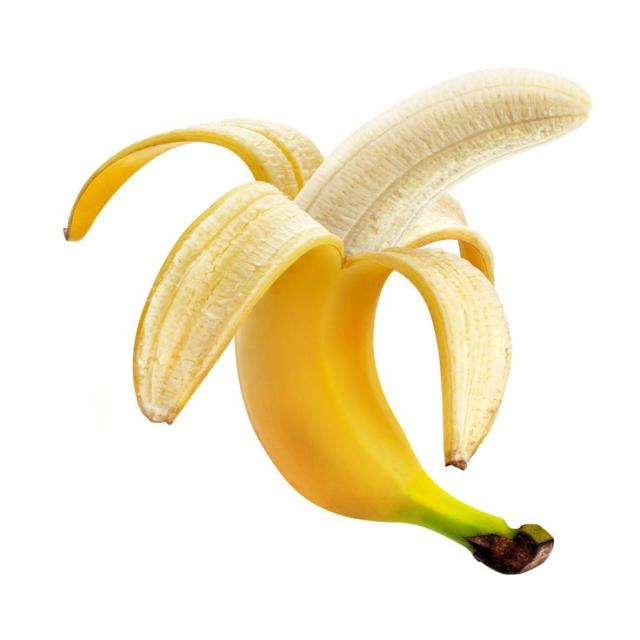banana: (67, 70, 588, 572), (297, 69, 590, 253), (134, 182, 341, 422), (65, 119, 322, 240)
